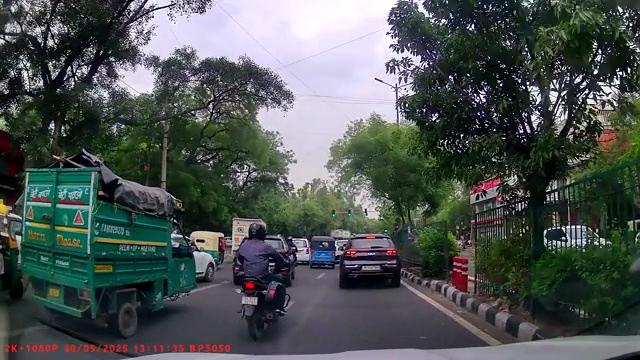motorcycle_with_helmet: (232, 220, 292, 341)
